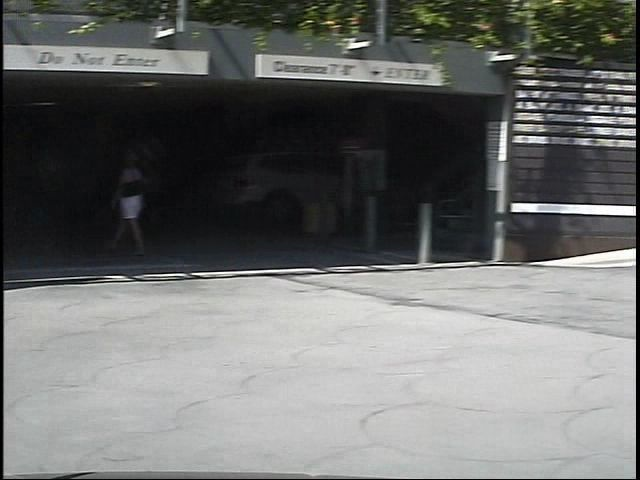person: (90, 149, 140, 270)
